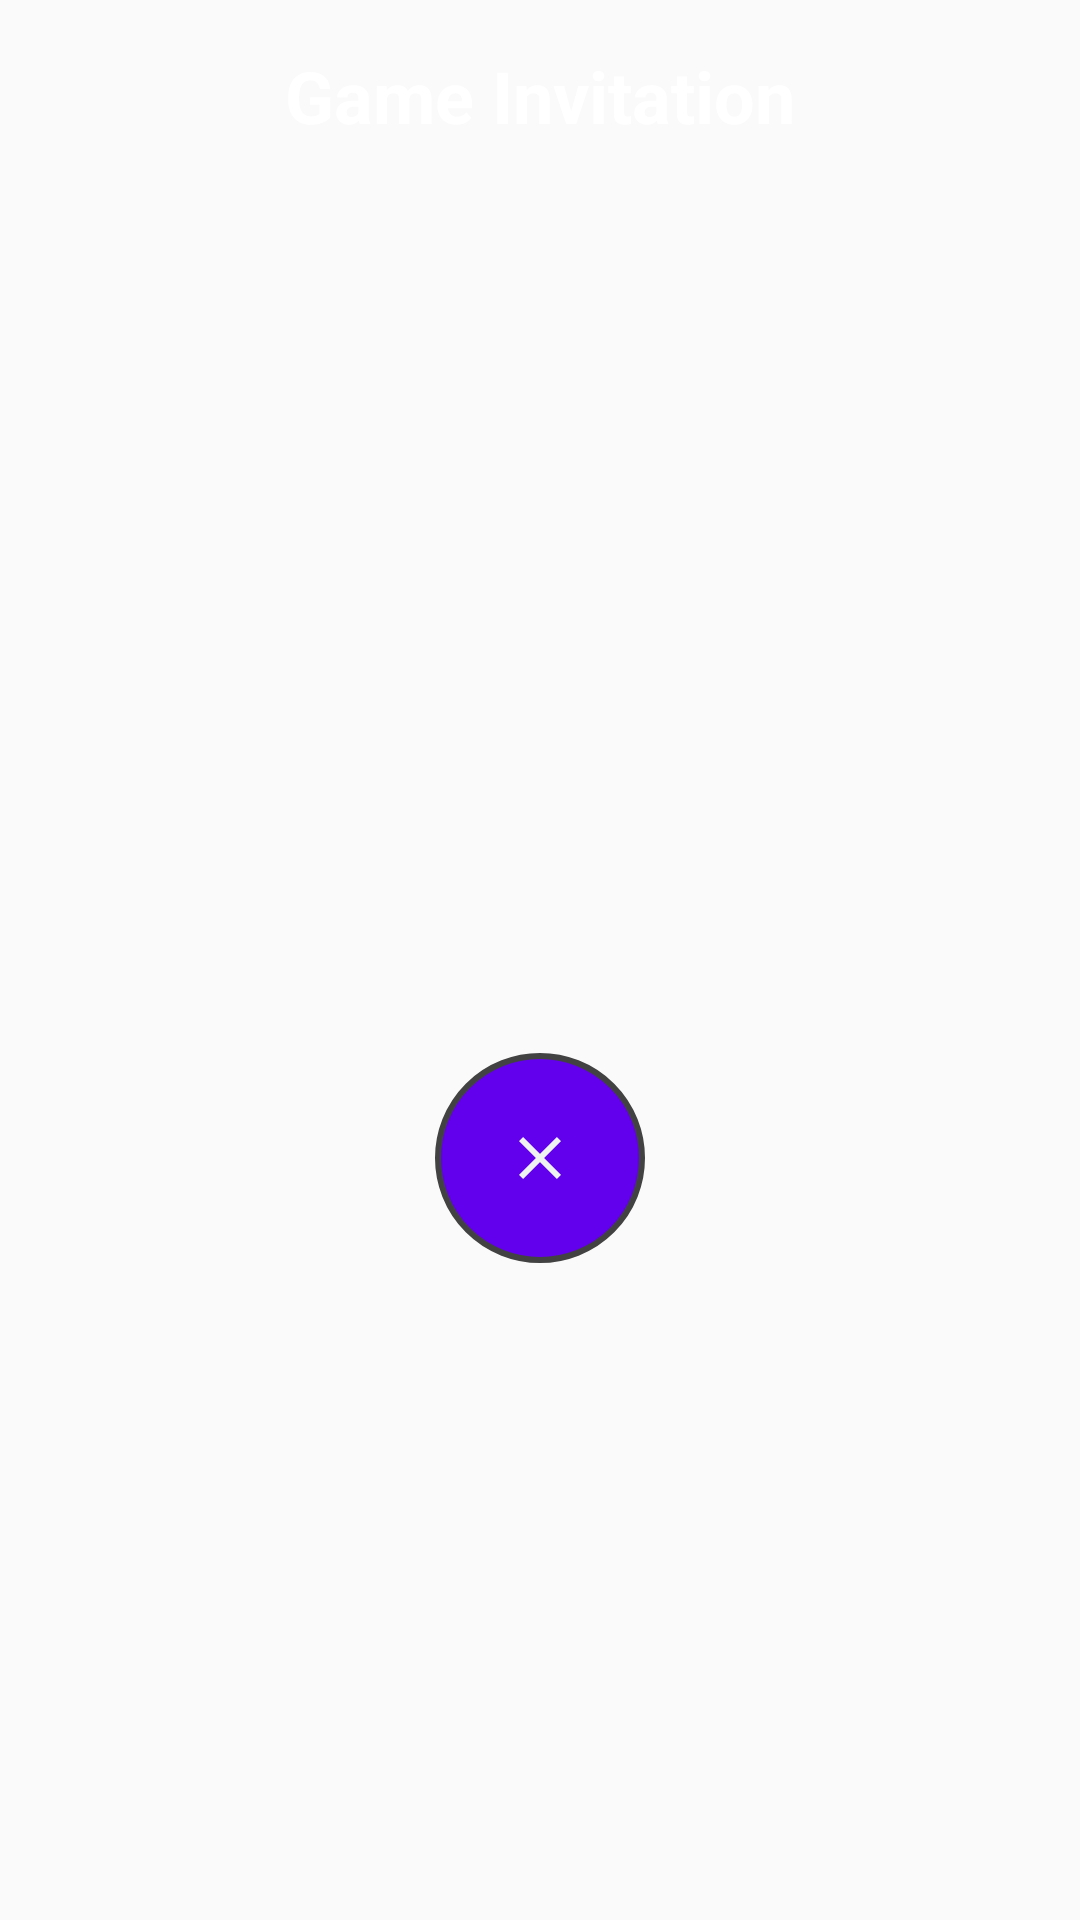

Named icons in this screenshot (1080 × 1920) and their centers, (x=x, y=y):
close: (x=540, y=1158)
